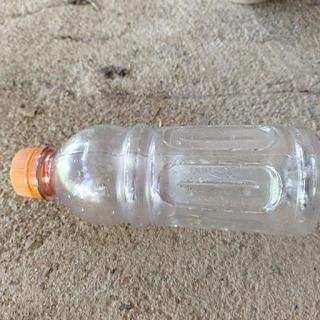Plastic-bottle: (11, 122, 320, 238)
